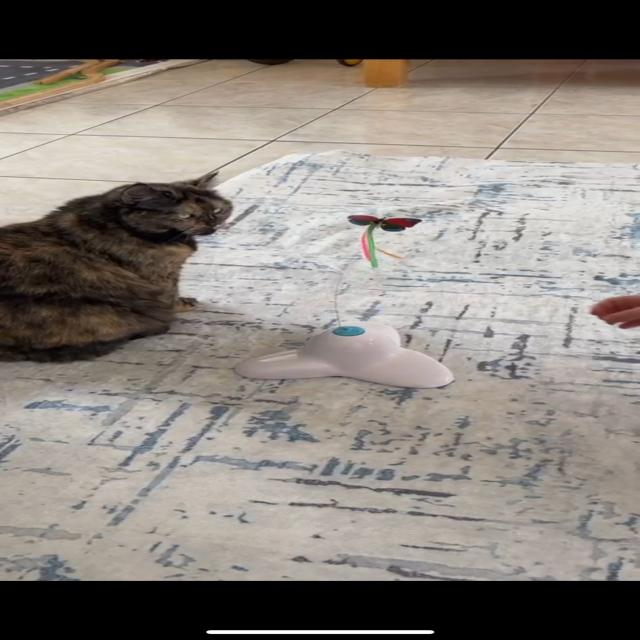authorized: (0, 169, 234, 363)
